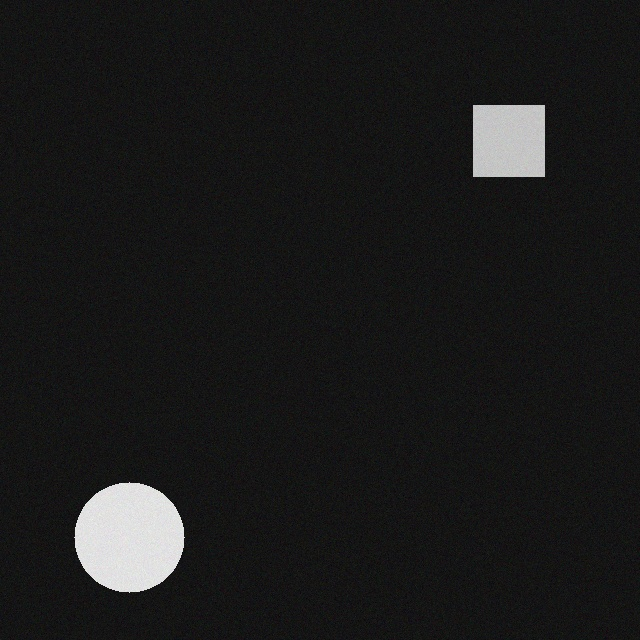circle: (80, 476, 190, 586)
square: (479, 99, 550, 170)
